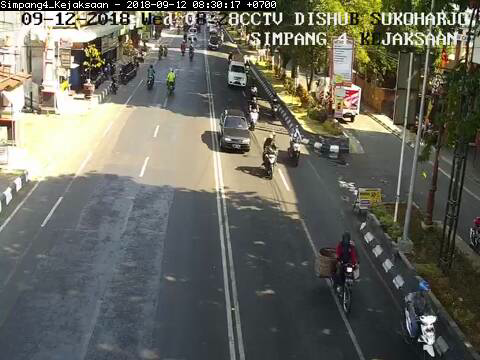motor: (316, 230, 364, 313), (399, 280, 444, 360), (259, 131, 280, 183), (286, 124, 305, 167), (245, 95, 259, 129)
